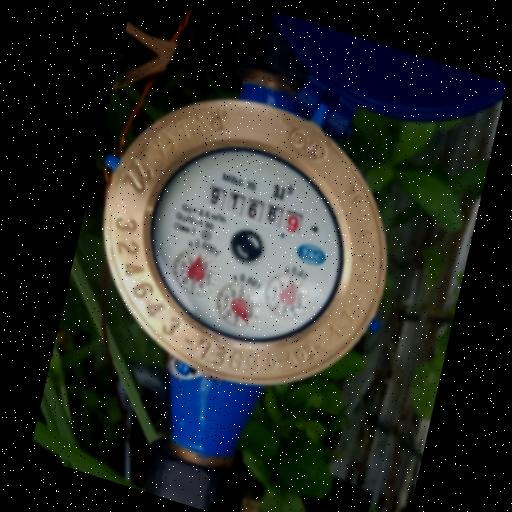1: (226, 191, 245, 214)
6: (245, 196, 265, 222), (265, 205, 283, 228)
9: (207, 185, 226, 210), (283, 211, 302, 235)
border_water_meter_number: (199, 178, 310, 242)
